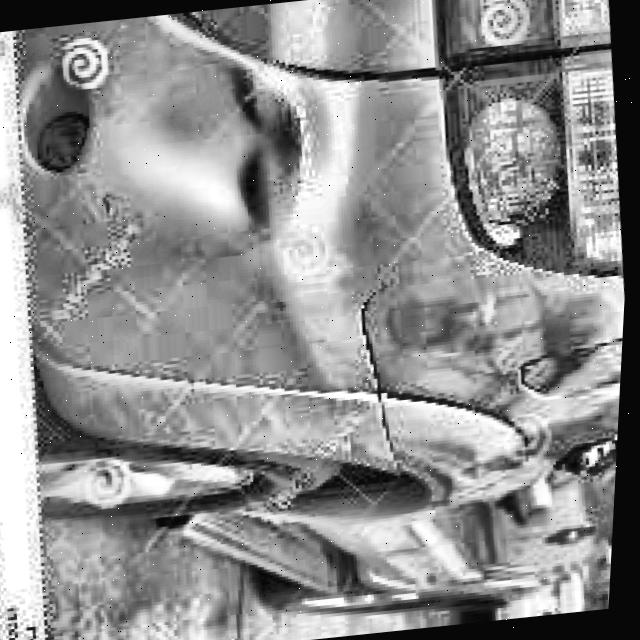bumper_dent: (109, 52, 319, 258), (295, 76, 420, 273)
